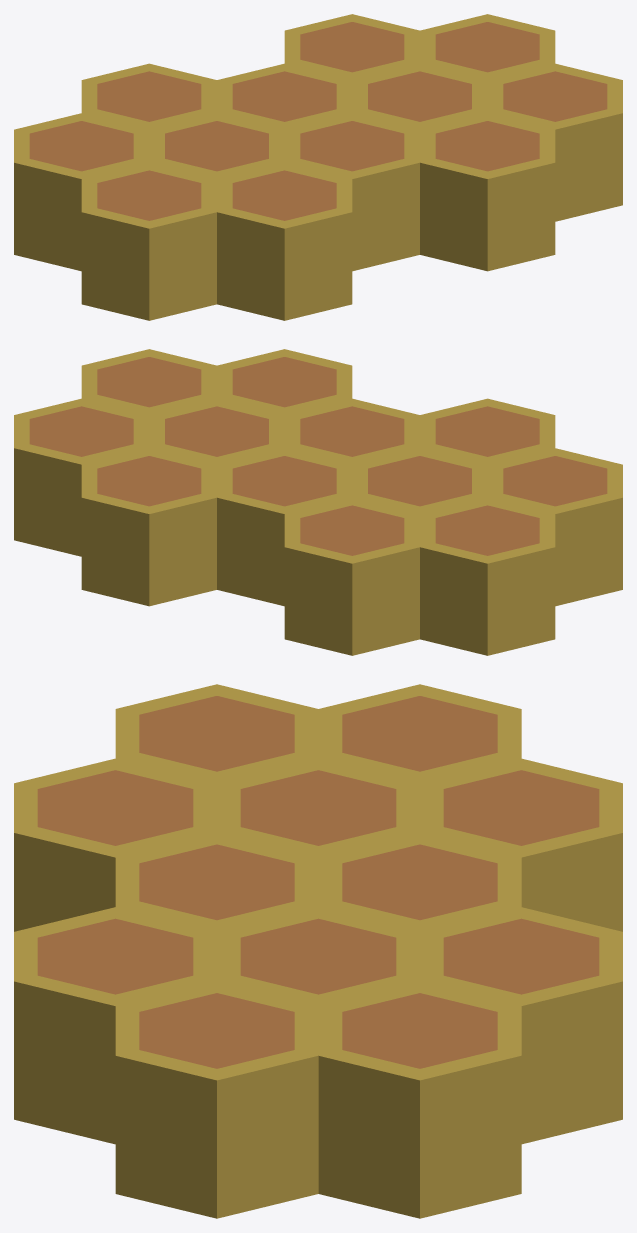
The model's file is SM_Honeycomb.fbx.
3 views of the same model, one above another, from view 1: azimuth 30°, elevation 25°; view 2: azimuth 150°, elevation 25°; view 3: azimuth 270°, elevation 25° (orthographic). The views are drawn at different scales.
Parts seen in each view (by area): view 1: Honeycomb; view 2: Honeycomb; view 3: Honeycomb.
Boxes of the visible parts, x1,y1,x2,y2 form: Honeycomb: (14,14,622,320); Honeycomb: (14,349,622,655); Honeycomb: (14,684,622,1218).
Bounding box in the file's own units: 0.2788 × 0.0454 × 0.1811.
